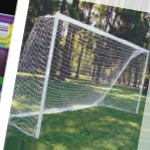goals: (14, 10, 150, 141)
